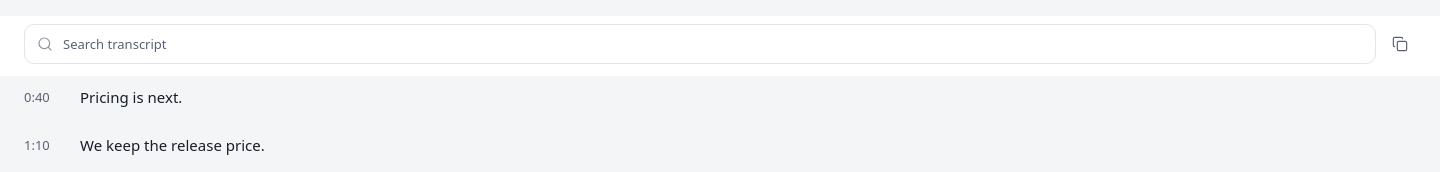
Test: TranscriptPanel › search › says when nothing matches
Type "budget" into the search field labelled "Search transcript" at (714, 44), box [57, 25, 1371, 63]
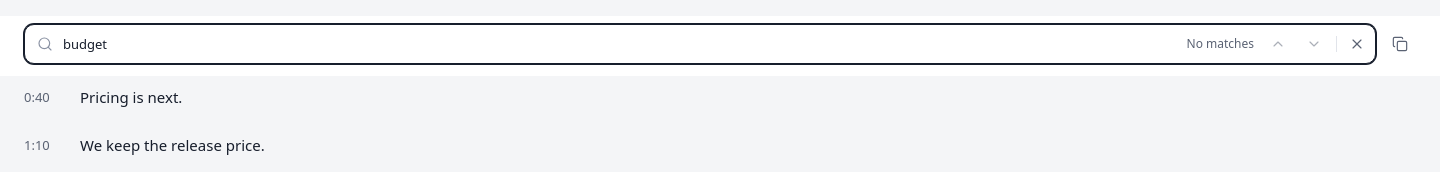
Expected: the button named "Next match" is disabled, [1298, 28, 1330, 60]
Expected: the message reads "No matches", [1186, 35, 1254, 52]
